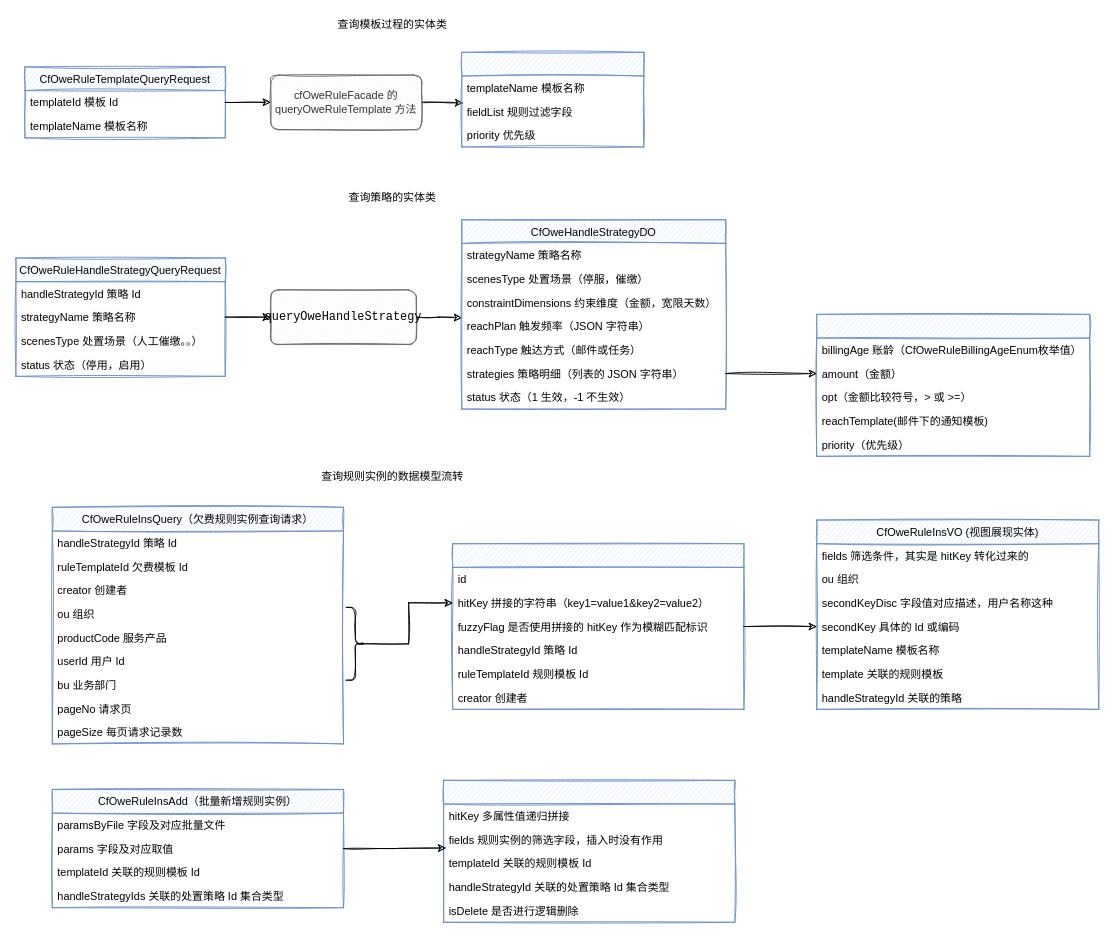
The diagram is 1115 pixels wide and 940 high, and some of its shapes have lost their labels. Here are the shapes that lost their labels. From the top down, the box of each, then its label:
(461, 51, 644, 147): CfOweRuleTemplateDO
(816, 313, 1090, 456): CfOweStrategyDetail
(452, 543, 744, 709): CfOweRuleInsQueryRequest（规则实例查询请求）
(443, 779, 735, 922): CfOweRuleInsDTO（批量新增规则传输对象）
